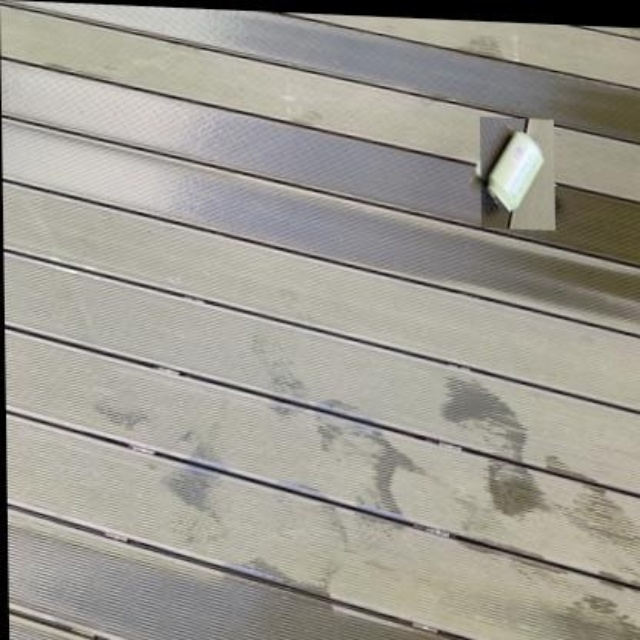trash: (488, 131, 543, 211)
